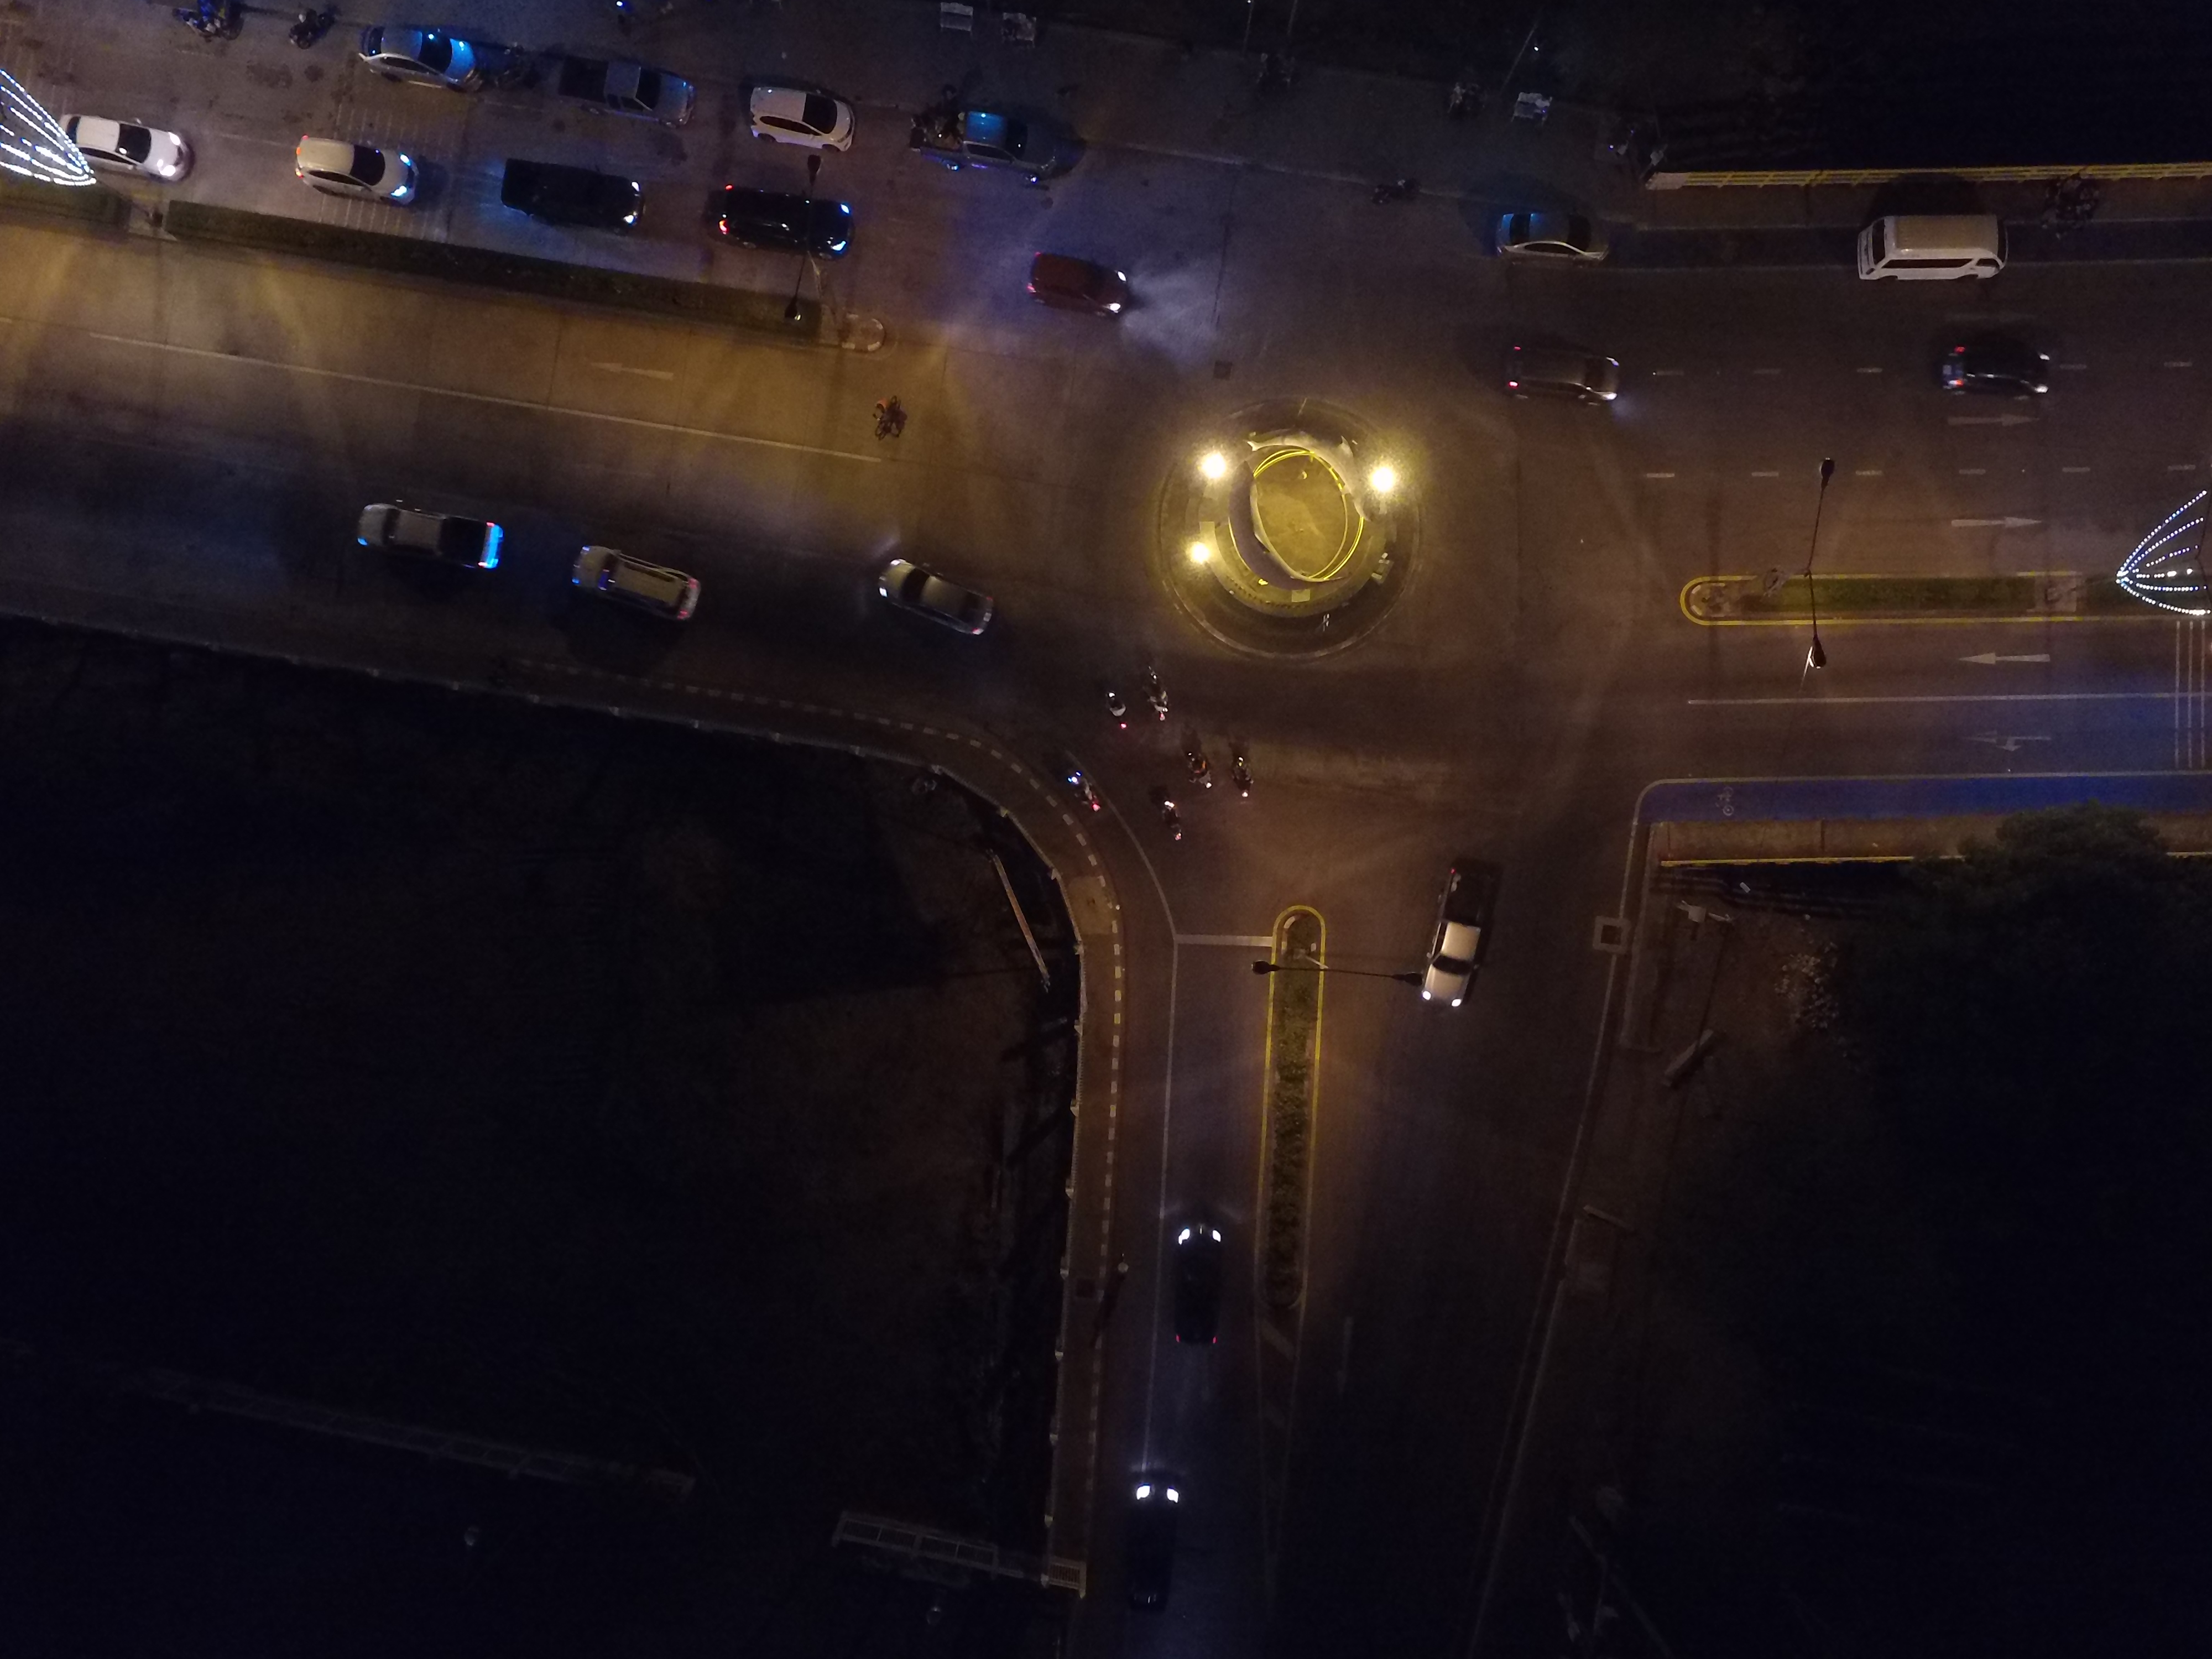car: (1393, 836, 1521, 1018), (909, 89, 1071, 204), (1475, 167, 1637, 282), (1836, 186, 1998, 301), (1144, 1197, 1249, 1361), (1115, 1460, 1219, 1624), (1925, 317, 2074, 425), (1480, 324, 1630, 432), (859, 552, 1000, 650), (503, 150, 644, 247), (711, 179, 852, 277), (559, 42, 700, 139), (49, 98, 190, 195), (570, 538, 709, 636), (291, 115, 430, 213), (359, 490, 500, 586), (345, 16, 484, 112), (735, 75, 867, 167)
